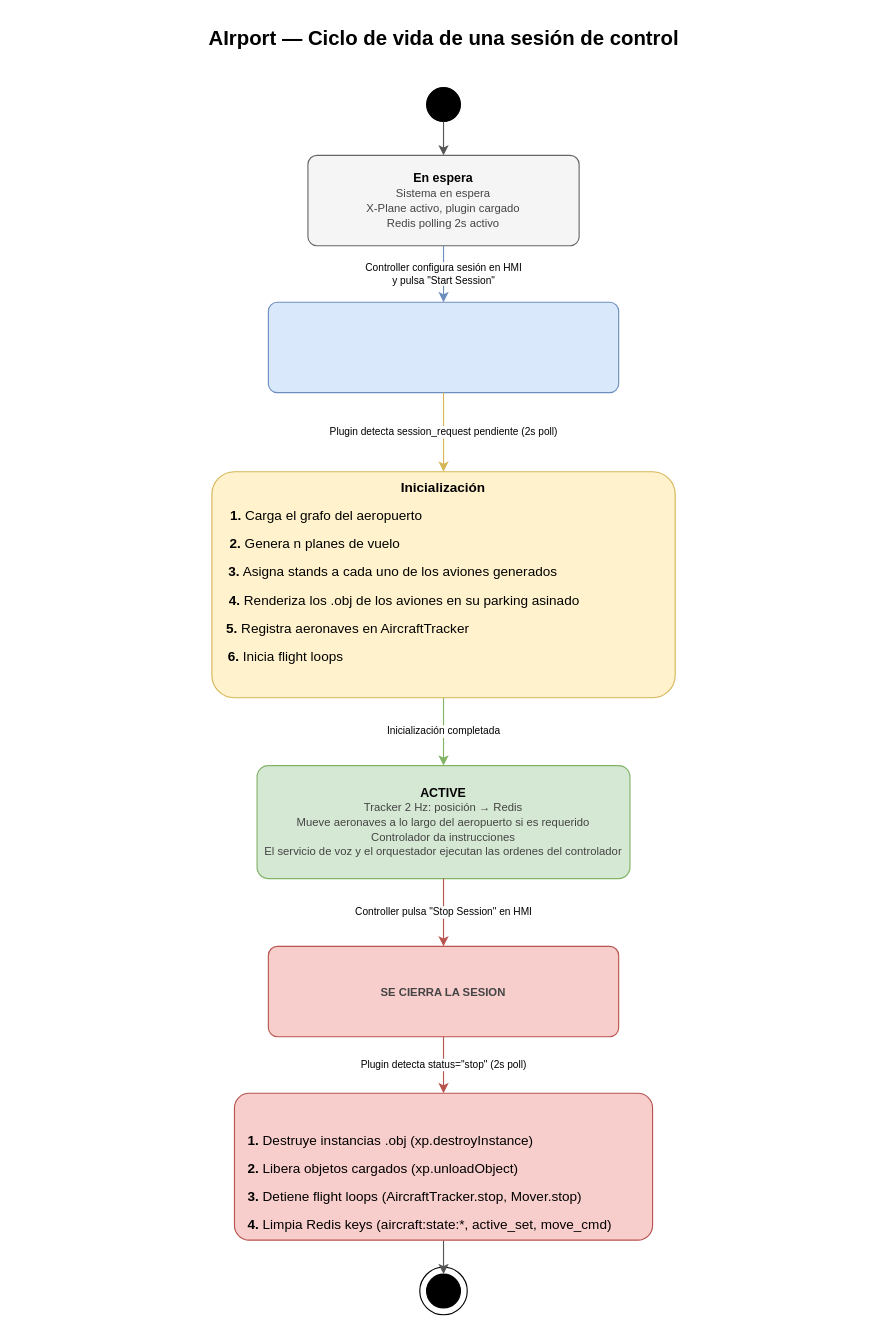
This 875x1335 diagram has some shape labels left out. The shapes that lost their labels are listed below. From the top down, each one's box as (x1, y1, x2, y2) in pixels, then its label:
(267, 301, 619, 393): Petición de sesión
(233, 1092, 653, 1240): Liberar memoria
